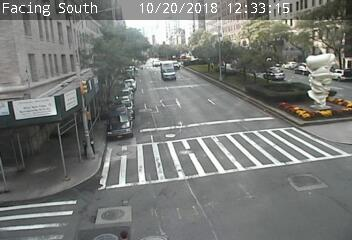car: (160, 62, 176, 80)
